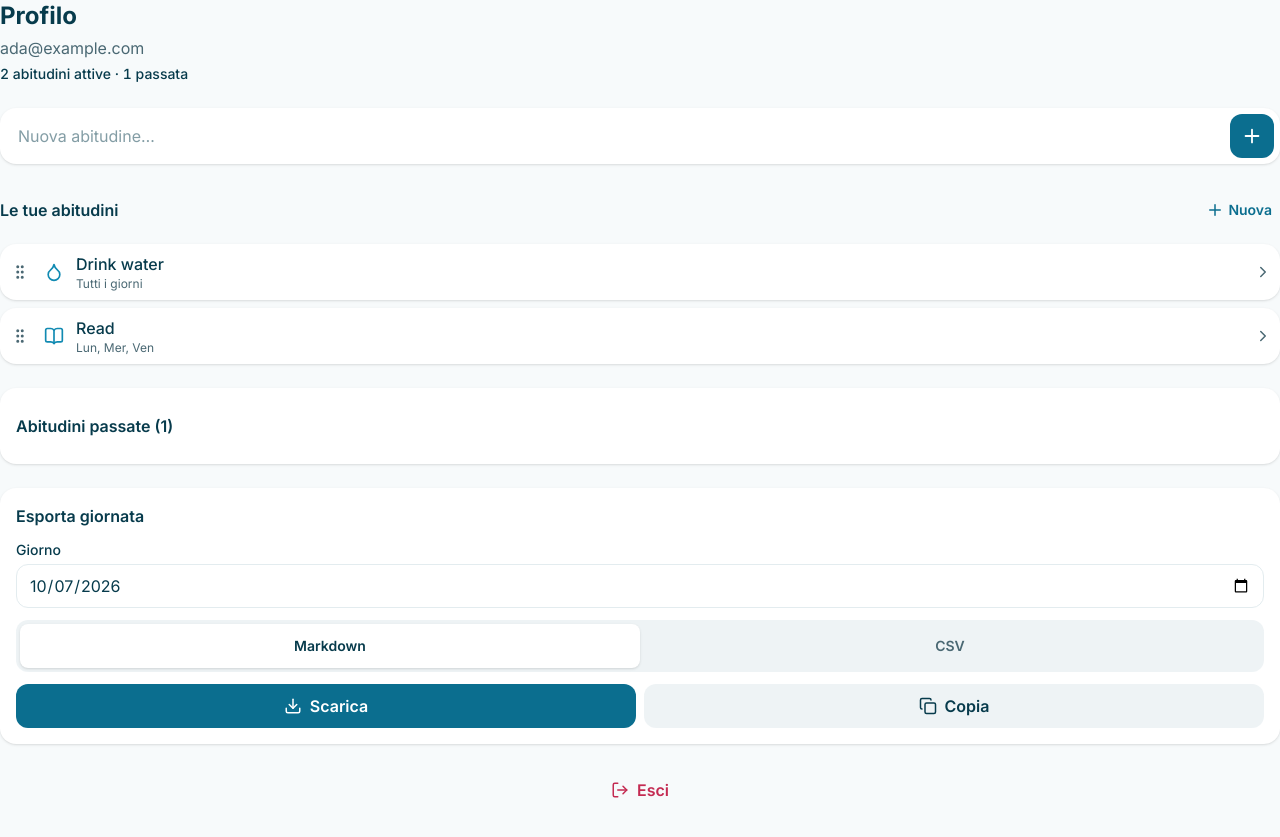
Test: ProfilePage › modifica dal foglio
The width and height of the screenshot is (1280, 837).
Click the button with aria-label "Modifica «Drink water»" at (120, 264), box [44,244,1272,300]
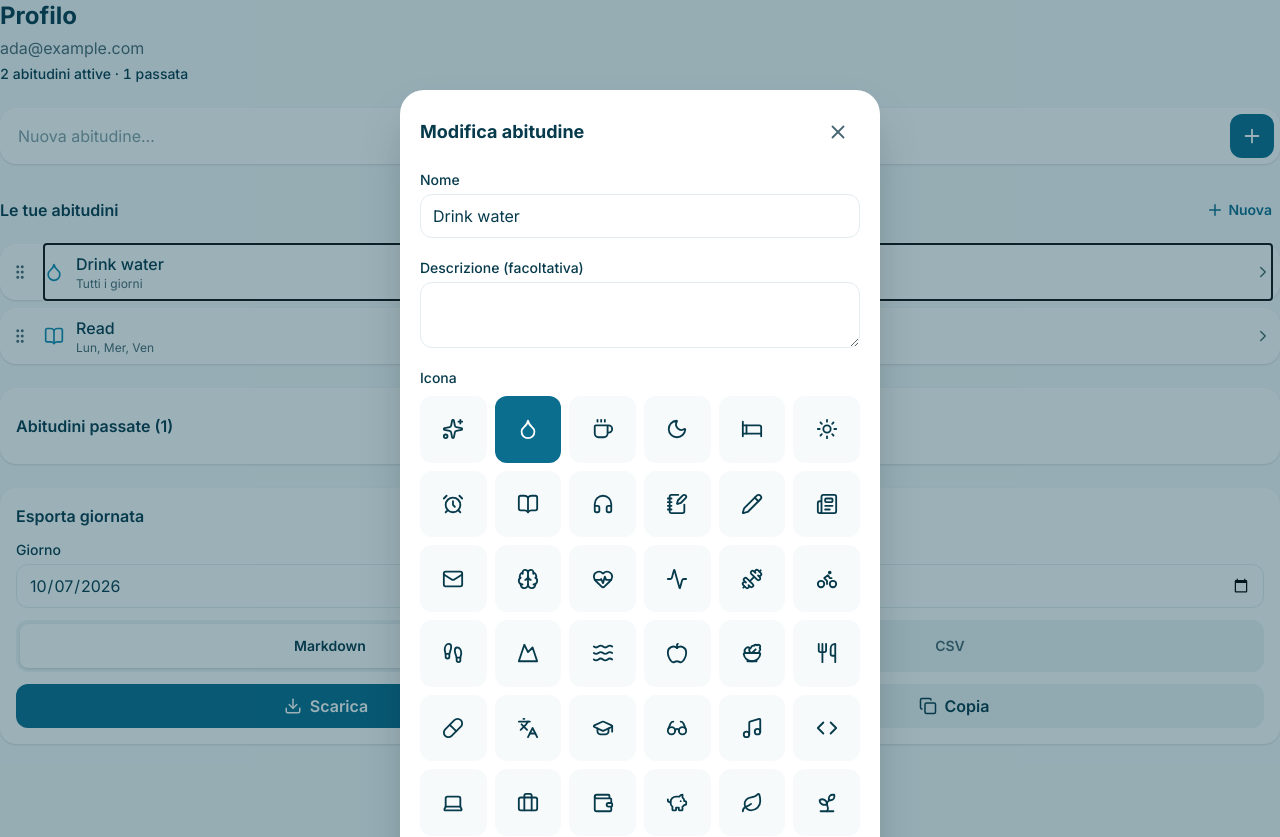
Replace the text in the field labelled "Nome" with "Acqua" at (640, 216), box [420,194,860,238]
(page scrolled)
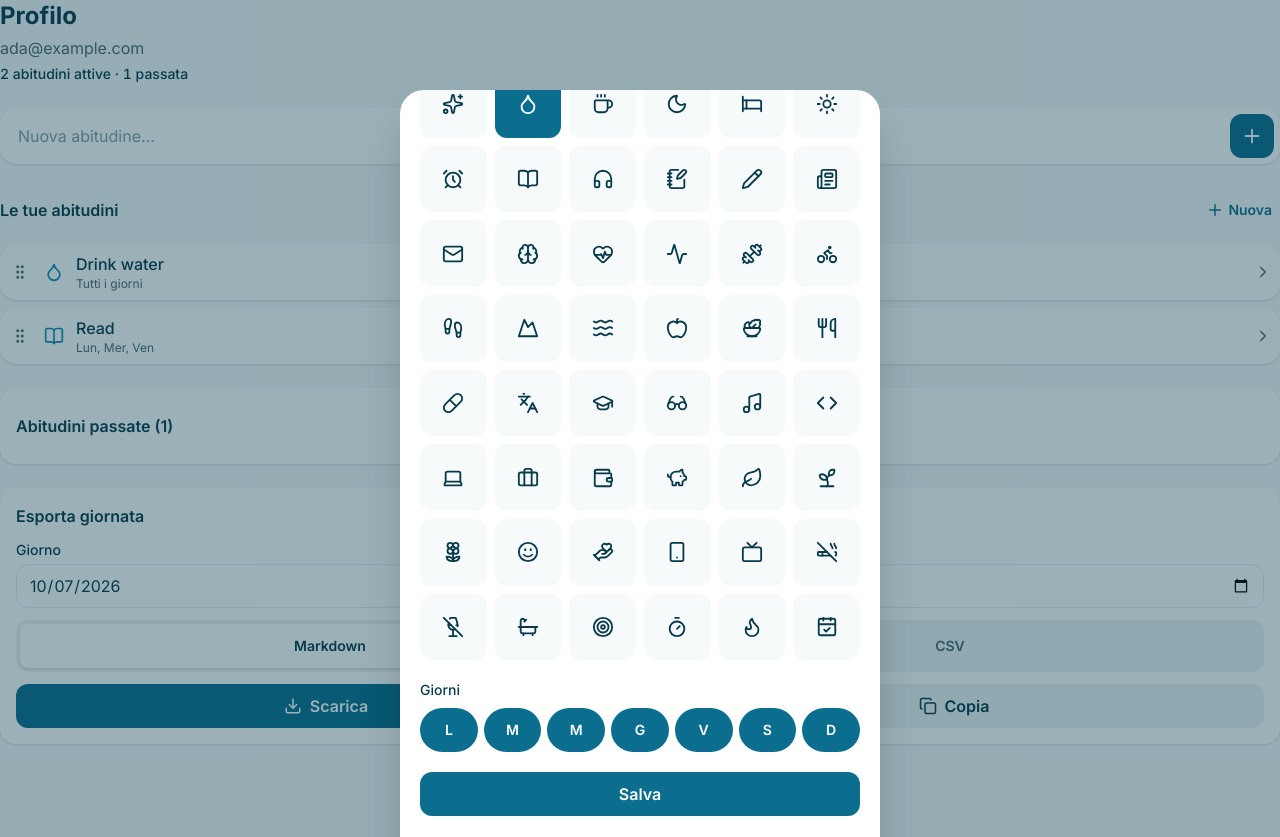
Click the button "Salva" at (640, 794), box [420,772,860,816]
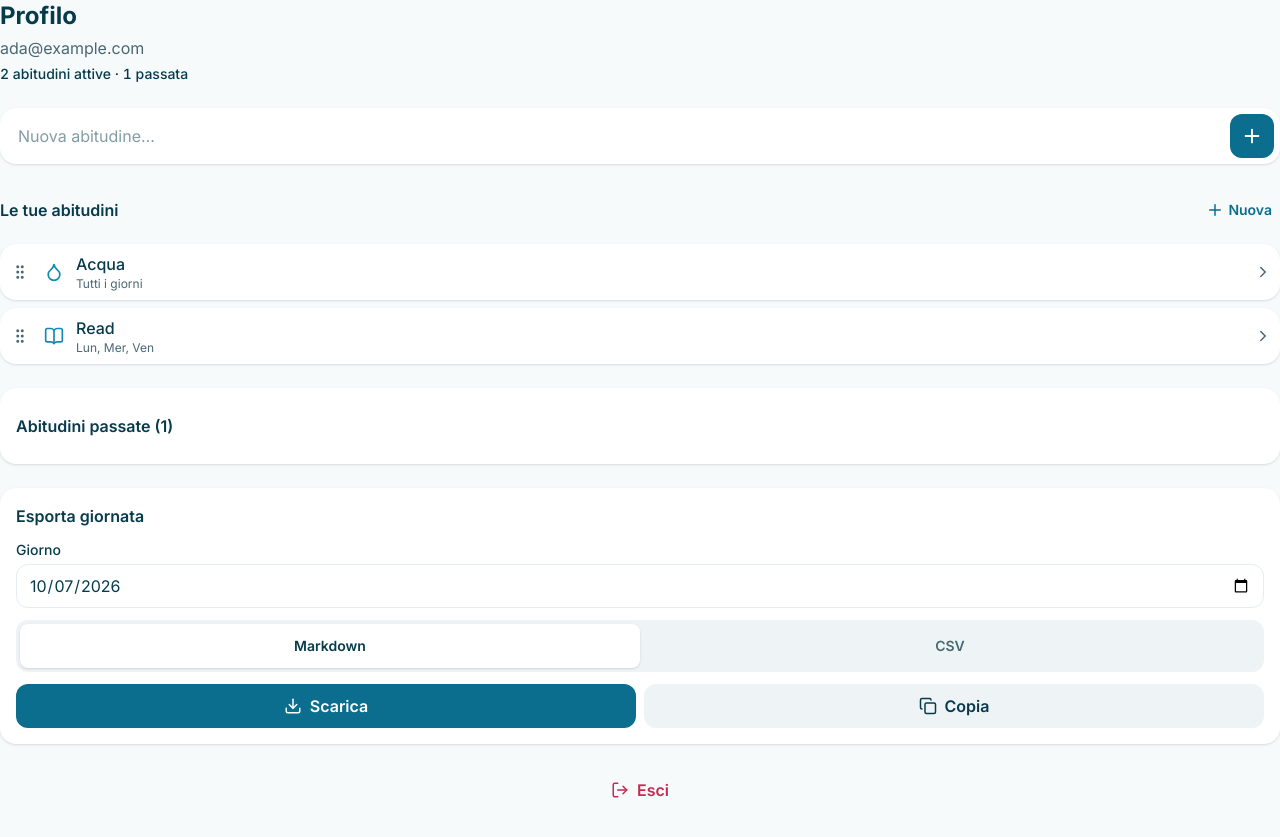
Check: the button with aria-label "Modifica «Acqua»" is shown, box [44,244,1272,300]
